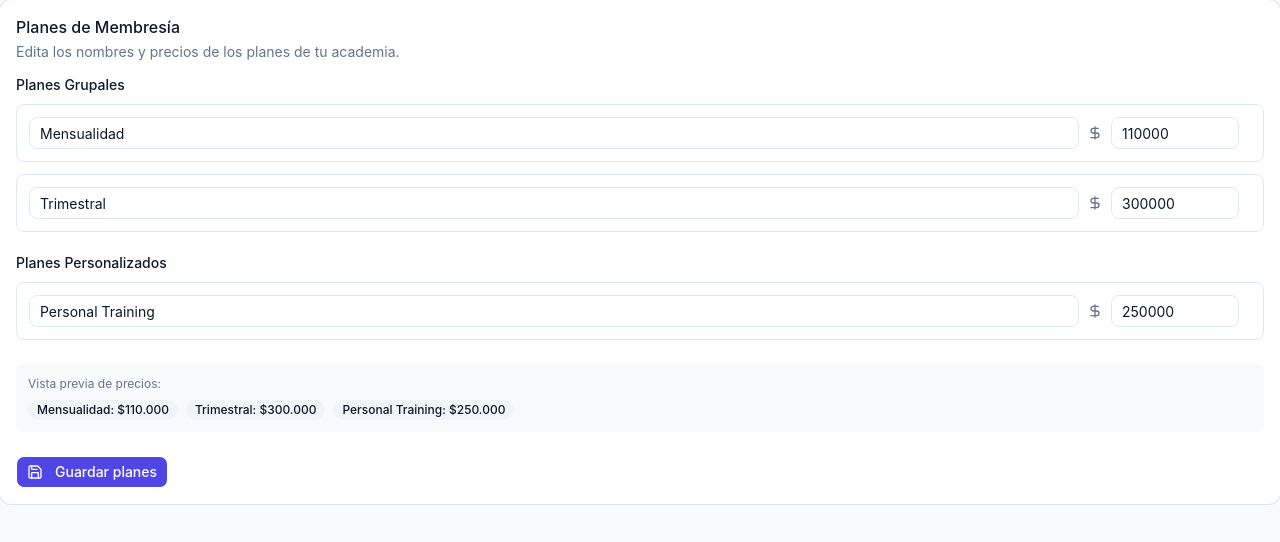
Test: PlanEditor — precio › muestra error y bloquea el guardado con precio negativo
The width and height of the screenshot is (1280, 542).
// Input controlado por el padre (no Controller): fireEvent.change propaga.
Step 1. Replace the text in the field named "precio del plan plan-mensual" with "-5000" → [1175, 133], box [1111,117,1239,149]
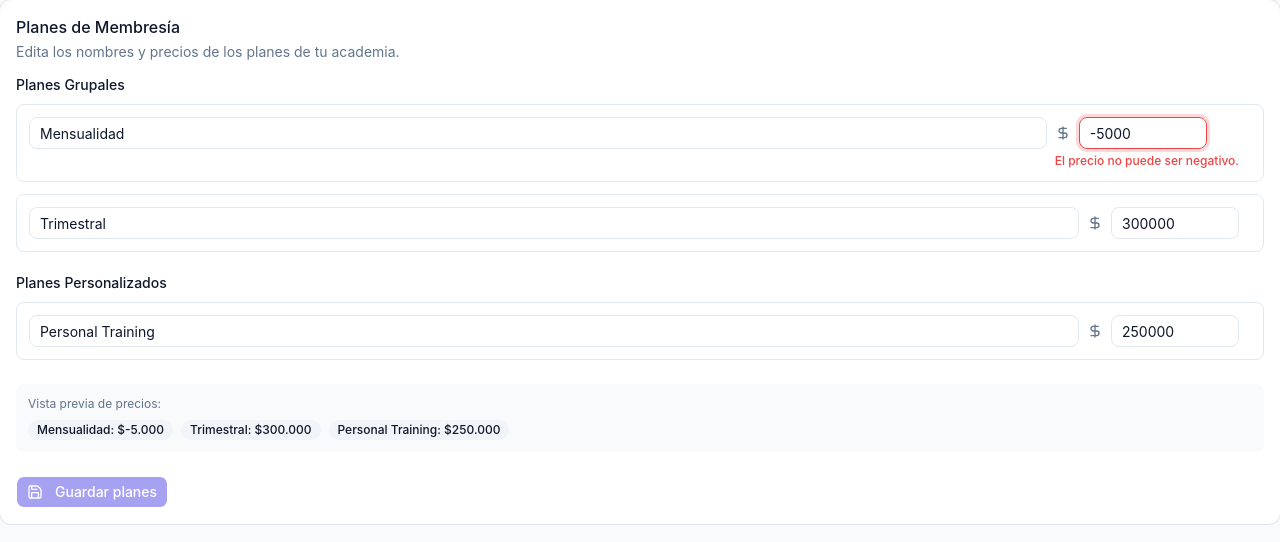
Result: the text "El precio no puede ser negativo." is shown at [1055,153,1239,169]
Result: the button "Guardar planes" is disabled at [16,476,168,508]
